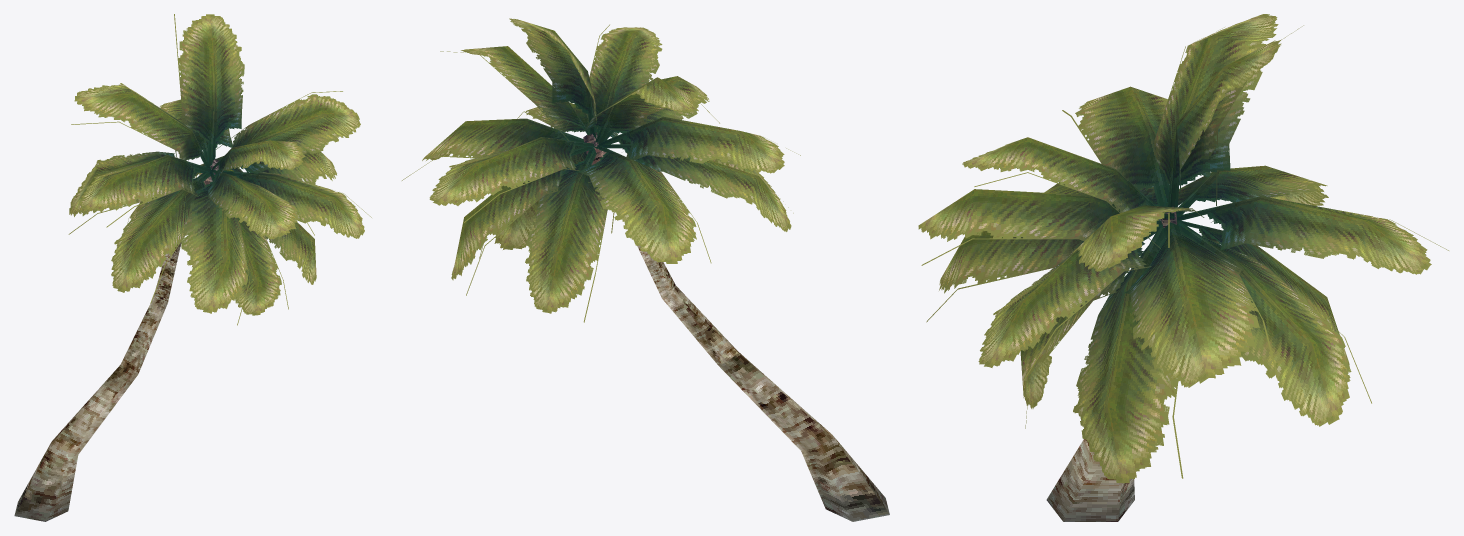
File: stage-beac-p2-83.glb
3 views of the same model, side by side, from view 1: azimuth 30°, elevation 25°; view 2: azimuth 150°, elevation 25°; view 3: azimuth 270°, elevation 25° (orthographic). The views are drawn at different scales.
Bounding box in the file's own units: 13.27 × 14.22 × 10.71.
1 material, 1 textured.
